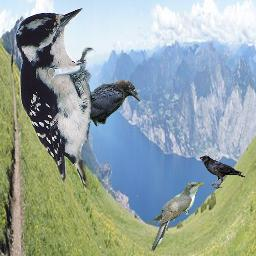Crow: (70, 79, 141, 128), (199, 155, 245, 189)
Cuckoo: (151, 182, 204, 251)
Woodpecker: (15, 8, 96, 194)
